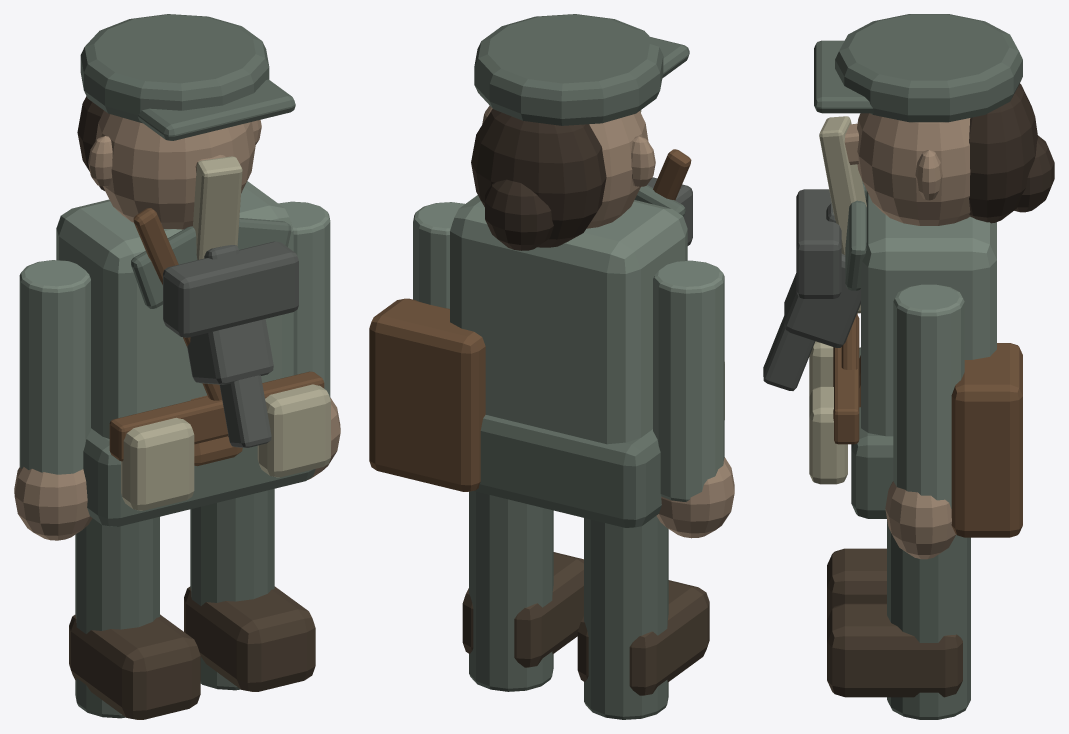
File: Model_OperativeScout.glb
3 renders of one model, left to right at view 1: azimuth 30°, elevation 25°; view 2: azimuth 150°, elevation 25°; view 3: azimuth 270°, elevation 25°, orthographic.
Visible parts, largest first — view 1: Asset_OperativeScout_BodyMesh, Leg_L_Mesh, Leg_R_Mesh, Arm_L_Mesh, Arm_R_Mesh; view 2: Asset_OperativeScout_BodyMesh, Leg_L_Mesh, Arm_L_Mesh, Leg_R_Mesh, Arm_R_Mesh; view 3: Asset_OperativeScout_BodyMesh, Leg_R_Mesh, Arm_R_Mesh, Leg_L_Mesh.
Part boxes in pixels (bbox=[...]): Asset_OperativeScout_BodyMesh: bbox=[56, 14, 330, 526]; Leg_L_Mesh: bbox=[69, 517, 200, 719]; Leg_R_Mesh: bbox=[184, 489, 315, 691]; Arm_L_Mesh: bbox=[14, 260, 92, 540]; Arm_R_Mesh: bbox=[278, 201, 340, 479]; Asset_OperativeScout_BodyMesh: bbox=[369, 14, 724, 528]; Leg_L_Mesh: bbox=[577, 516, 709, 719]; Arm_L_Mesh: bbox=[653, 260, 734, 538]; Leg_R_Mesh: bbox=[462, 491, 583, 691]; Arm_R_Mesh: bbox=[413, 202, 464, 308]; Asset_OperativeScout_BodyMesh: bbox=[763, 14, 1054, 537]; Leg_R_Mesh: bbox=[827, 520, 970, 719]; Arm_R_Mesh: bbox=[885, 284, 964, 559]; Leg_L_Mesh: bbox=[827, 548, 886, 619].
Size of the model in its own units: 1.11 by 2.15 by 0.8987.
